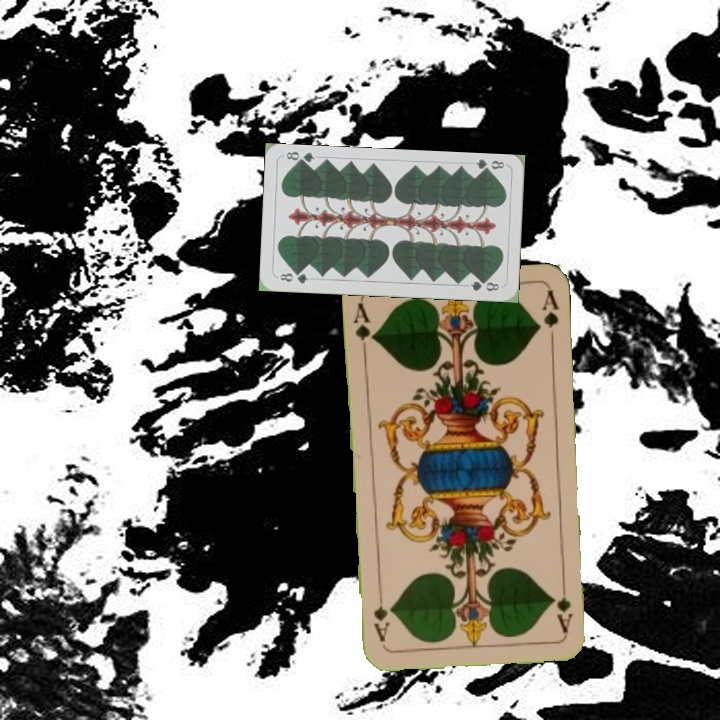G8: (472, 156, 506, 176), (276, 268, 311, 286)
GA: (349, 298, 377, 356), (549, 578, 576, 635)
